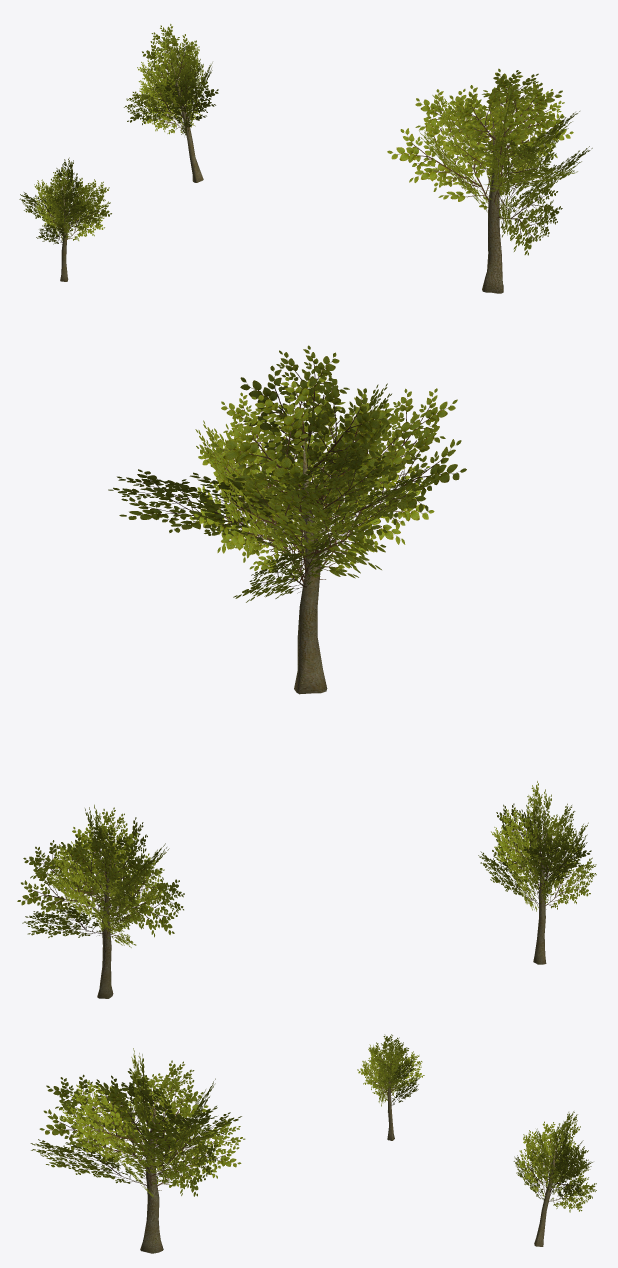
Rendered from Trees_2_Lake_COMBO.fbx.
3 views of the same model, one above another, from view 1: azimuth 30°, elevation 25°; view 2: azimuth 150°, elevation 25°; view 3: azimuth 270°, elevation 25° (orthographic). The views are drawn at different scales.
Visible parts, largest first — view 1: Sun_0015_Large_tree_3_alt_green; view 2: Sun_0015_Large_tree_3_alt_green; view 3: Sun_0015_Large_tree_3_alt_green.
Part boxes in pixels (x1=…): Sun_0015_Large_tree_3_alt_green: x1=19, y1=24, x2=592, y2=293; Sun_0015_Large_tree_3_alt_green: x1=17, y1=345, x2=596, y2=998; Sun_0015_Large_tree_3_alt_green: x1=30, y1=1034, x2=596, y2=1253.
Size of the model in its own units: 53.85 by 32.25 by 71.25.
